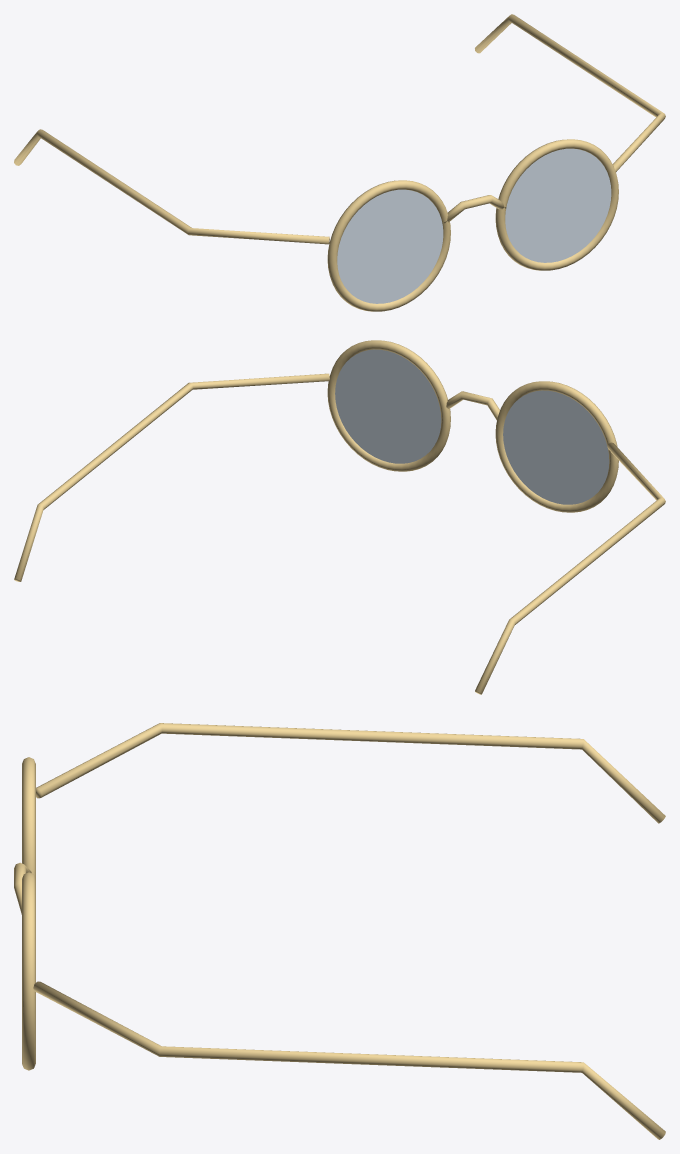
Rendered from acc_glasses_round_male.glb.
The picture shows the model from 3 angles, top to bottom: view 1: azimuth 30°, elevation 25°; view 2: azimuth 150°, elevation 25°; view 3: azimuth 270°, elevation 25°; orthographic projection. The views are drawn at different scales.
Visible parts, largest first — view 1: glasses_round; view 2: glasses_round; view 3: glasses_round.
Boxes of the visible parts, left/top/right/bottom form: glasses_round: left=14, top=14, right=665, bottom=311; glasses_round: left=14, top=340, right=665, bottom=694; glasses_round: left=14, top=723, right=665, bottom=1139.
Bounding box in the file's own units: 0.1766 × 0.0452 × 0.1483.
